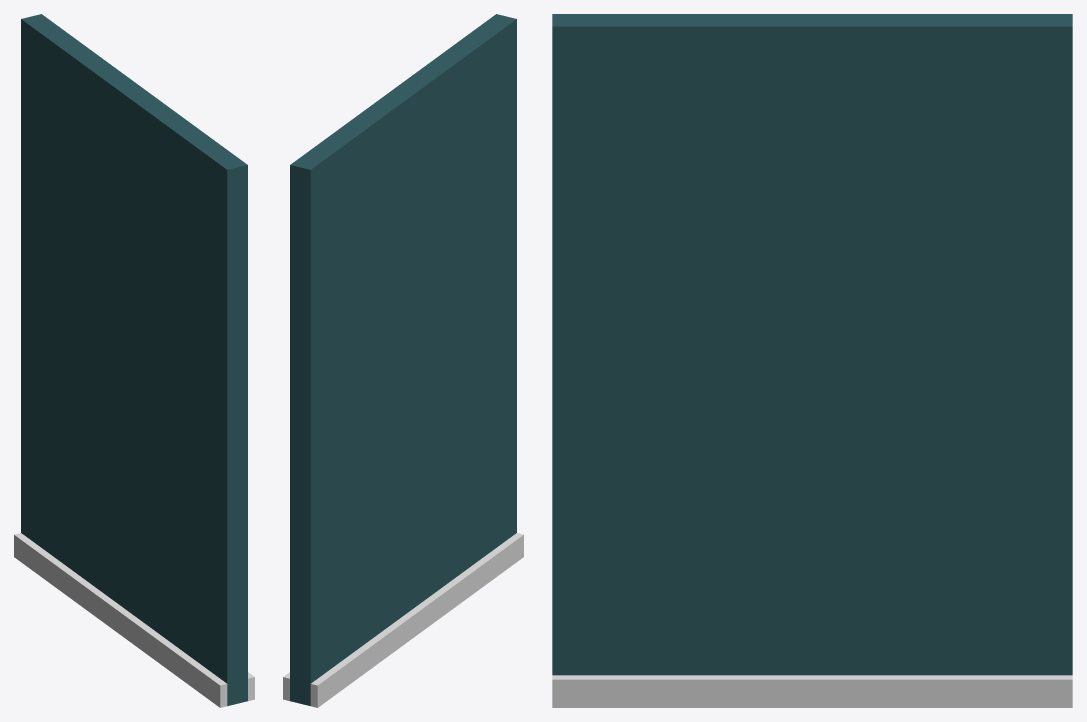
Rendered from Wall_office.glb.
The picture shows the model from 3 angles, left to right: view 1: azimuth 30°, elevation 25°; view 2: azimuth 150°, elevation 25°; view 3: azimuth 270°, elevation 25°; orthographic projection. The views are drawn at different scales.
Visible parts, largest first — view 1: Base Wall, Baseboard; view 2: Base Wall, Baseboard; view 3: Base Wall, Baseboard.
Boxes of the visible parts, bbox=[...] form: Base Wall: bbox=[21, 14, 247, 705]; Baseboard: bbox=[14, 533, 254, 707]; Base Wall: bbox=[290, 14, 516, 705]; Baseboard: bbox=[283, 533, 523, 707]; Base Wall: bbox=[552, 14, 1072, 675]; Baseboard: bbox=[552, 675, 1072, 707].
Bounding box in the file's own units: 0.1947 × 2.87 × 2.
